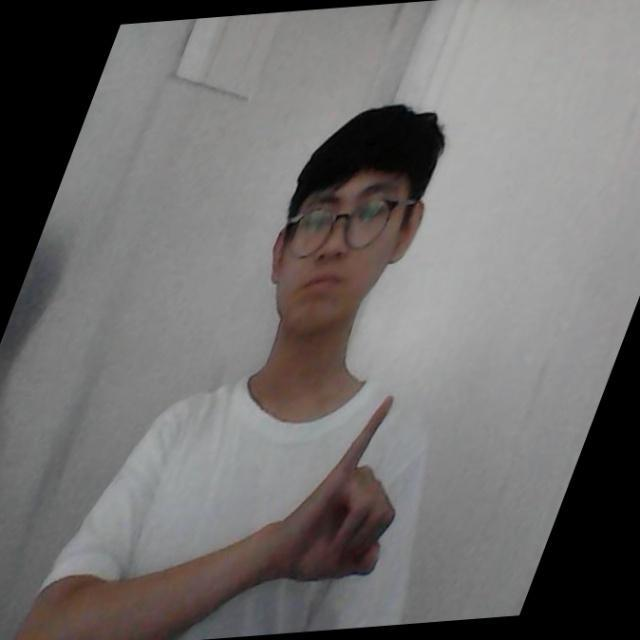I: (302, 390, 400, 583)
